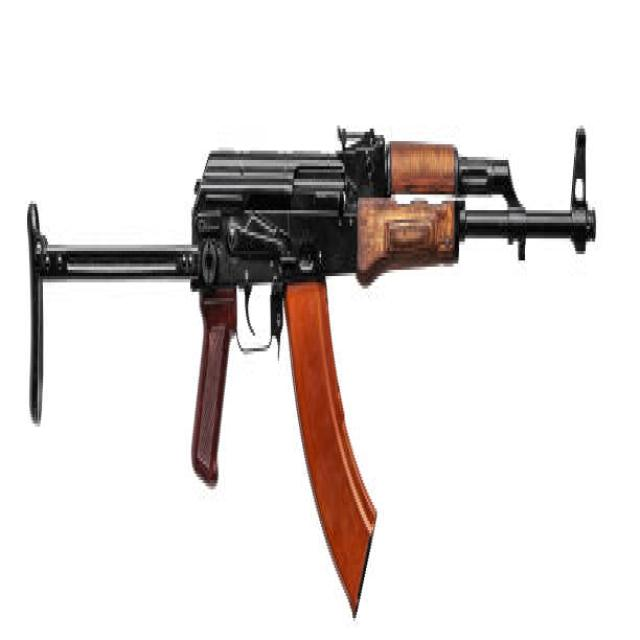rifle: (27, 98, 600, 621)
